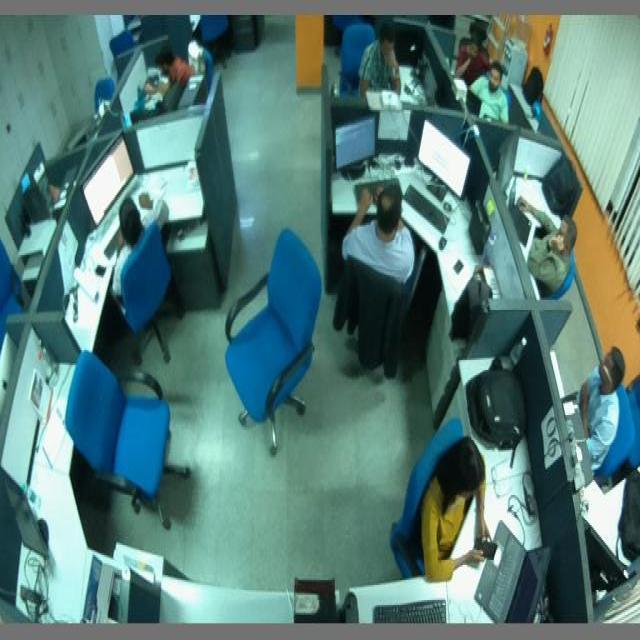chair: (66, 349, 192, 528), (225, 227, 322, 455), (391, 417, 464, 575), (337, 252, 419, 376), (110, 221, 173, 359), (596, 382, 632, 490), (342, 20, 378, 100), (0, 237, 23, 333), (554, 252, 578, 308), (202, 14, 226, 48), (94, 77, 118, 110), (110, 30, 132, 55)
keyboard: (403, 183, 452, 235), (372, 597, 446, 623), (350, 175, 404, 200), (98, 224, 130, 261)
laptop: (476, 517, 550, 626)
monitor: (0, 464, 49, 599), (79, 129, 136, 226), (415, 119, 474, 201), (332, 116, 384, 177)
person: (422, 435, 492, 580), (344, 184, 416, 284), (112, 190, 170, 300), (579, 345, 624, 463), (520, 200, 577, 293), (362, 28, 404, 97), (146, 45, 192, 100), (471, 68, 512, 120), (460, 35, 488, 83)
phone: (451, 257, 465, 275), (92, 262, 108, 276)
